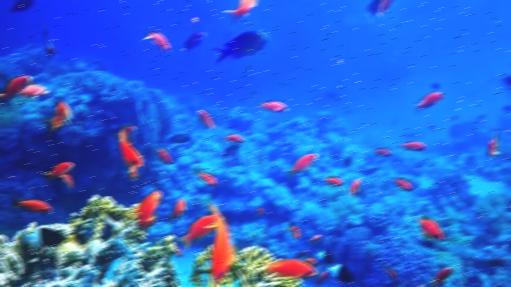Fish: (177, 202, 237, 283), (214, 31, 269, 62), (118, 125, 144, 179), (132, 187, 163, 230), (0, 75, 49, 99), (267, 259, 317, 279), (41, 161, 74, 188), (21, 227, 66, 246), (286, 153, 320, 178), (47, 100, 72, 131), (223, 0, 258, 19), (141, 30, 171, 52), (318, 266, 354, 284), (419, 217, 445, 241), (12, 198, 52, 212), (415, 91, 445, 109), (368, 0, 395, 19), (182, 32, 206, 50), (223, 134, 245, 153), (256, 100, 289, 112), (194, 168, 217, 185), (197, 110, 216, 129), (170, 198, 186, 218), (43, 29, 54, 54), (395, 177, 414, 191), (488, 133, 500, 155), (157, 148, 173, 164), (400, 141, 427, 150), (350, 179, 362, 197), (325, 176, 344, 186), (288, 225, 301, 239), (374, 148, 392, 156), (311, 234, 322, 242)
